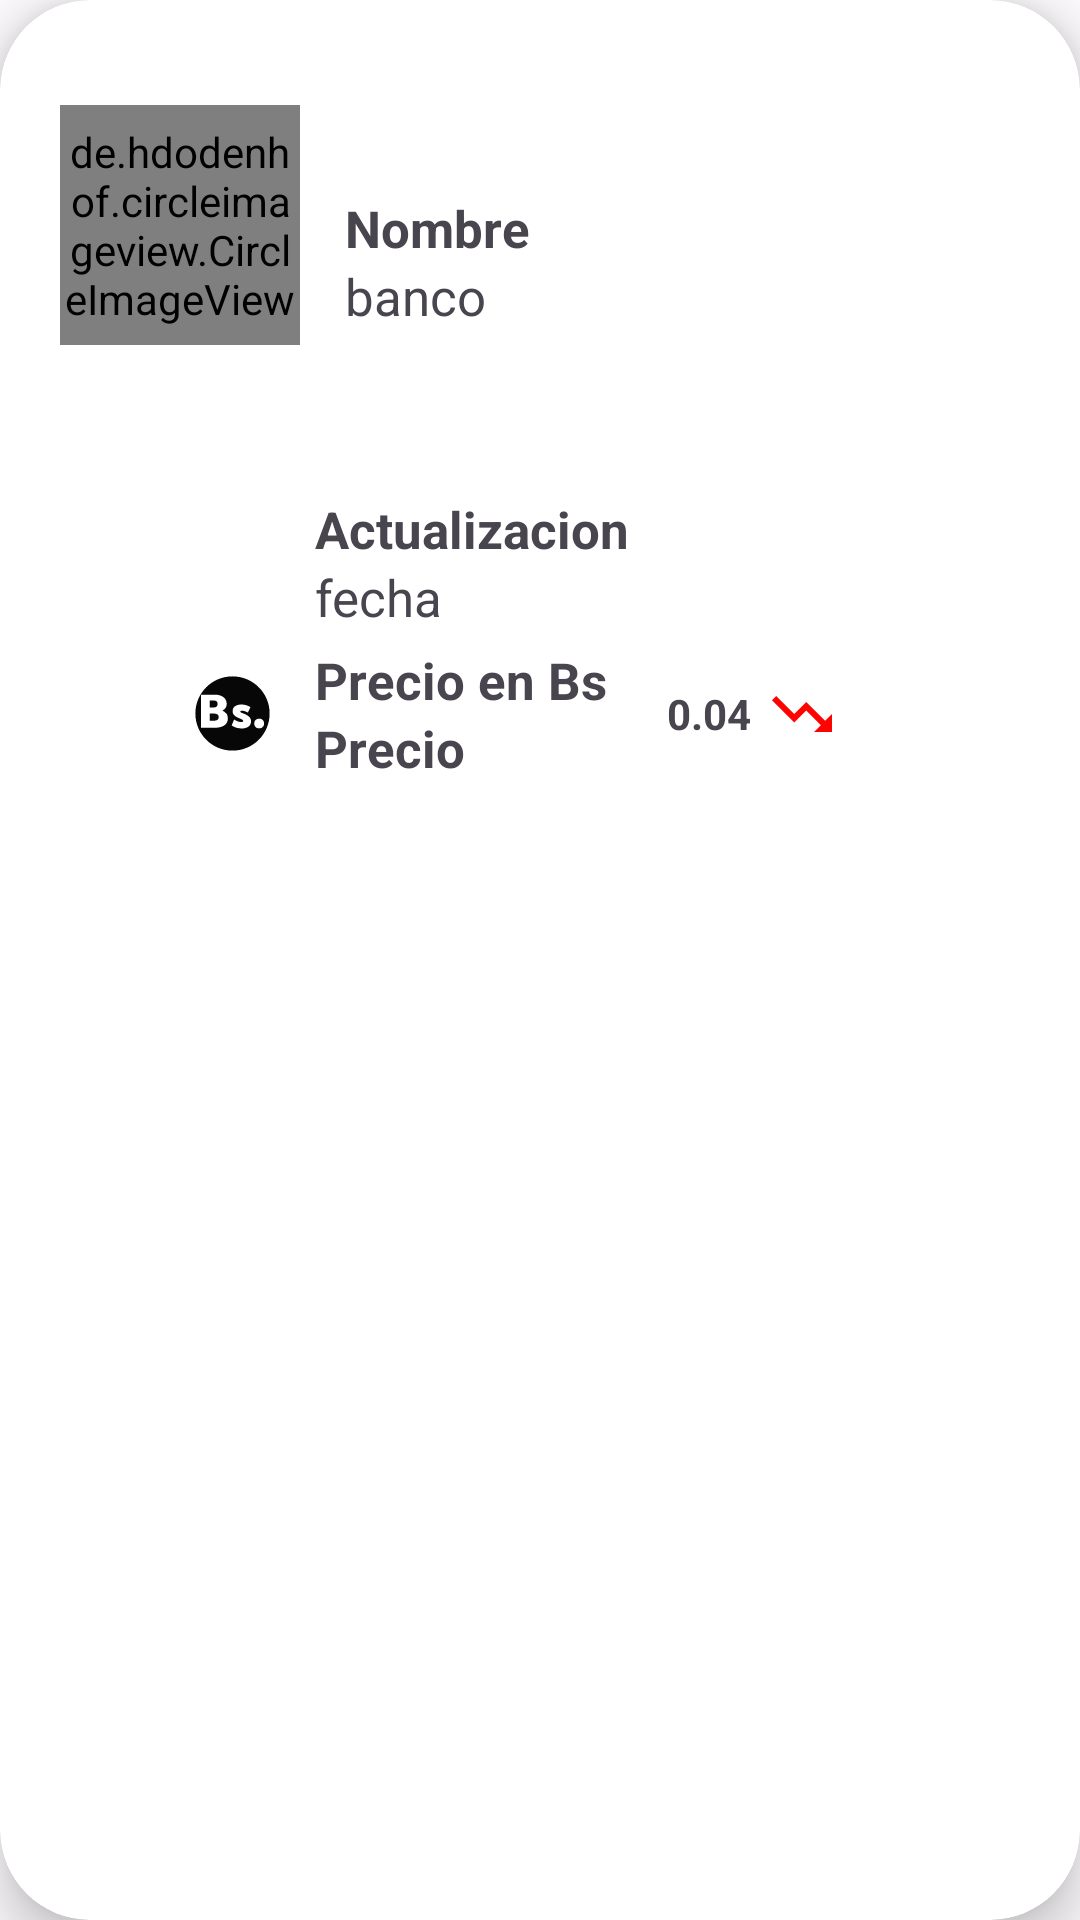

Point at icon controls on the screen. Image size 1080*1920, points as point (x, y).
flecha roja: point (802, 714)
